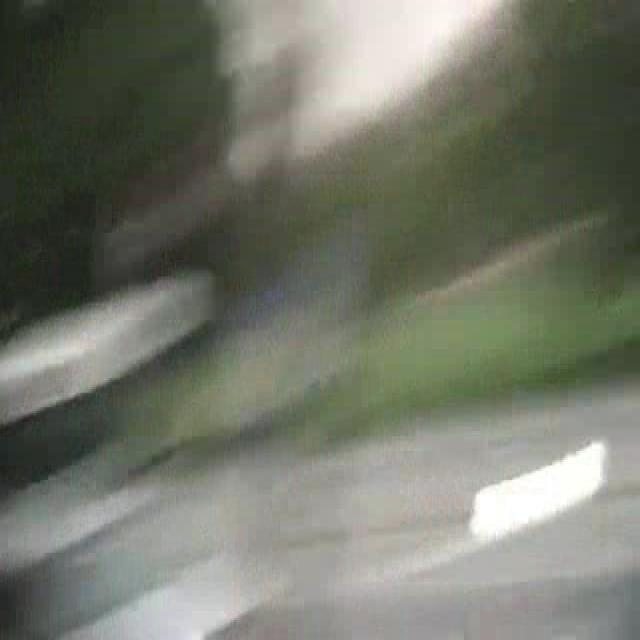other: (469, 418, 603, 567)
